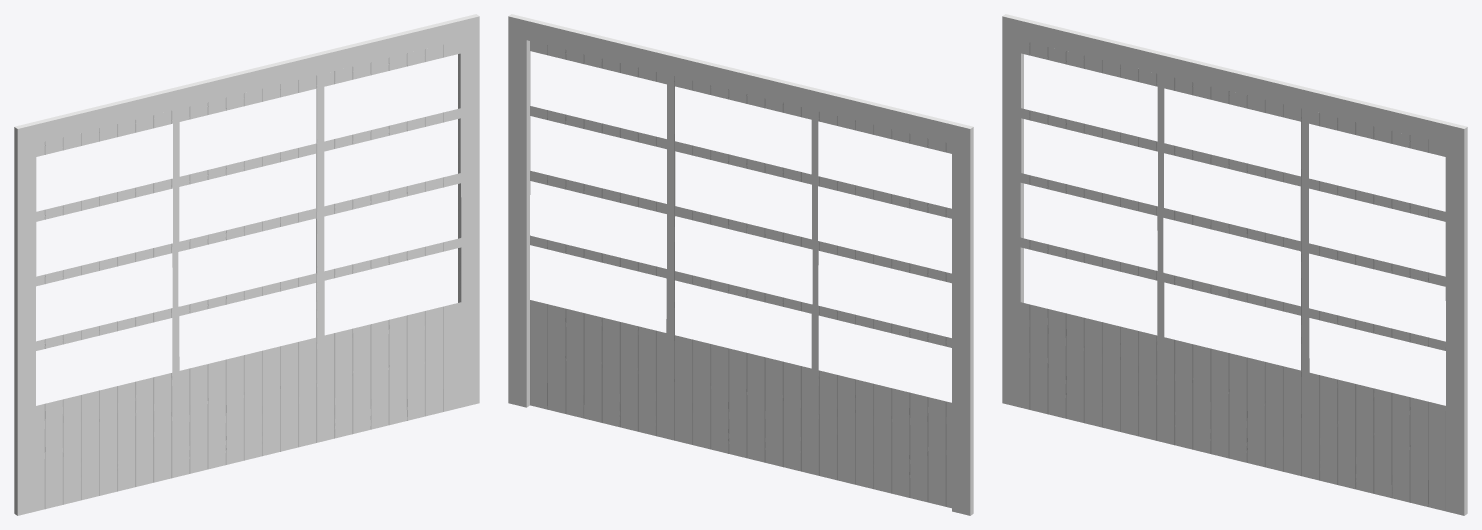
Rendered from gate_full_glass.glb.
3 views of the same model, side by side, from view 1: azimuth 30°, elevation 25°; view 2: azimuth 150°, elevation 25°; view 3: azimuth 330°, elevation 25° (orthographic).
Visible parts, largest first — view 1: 3DGeom-1, 3DGeom-2; view 2: 3DGeom-1, 3DGeom-2; view 3: 3DGeom-1, 3DGeom-2.
Boxes of the visible parts, x1=… form: 3DGeom-1: x1=36, y1=40, x2=461, y2=511; 3DGeom-2: x1=14, y1=14, x2=479, y2=515; 3DGeom-1: x1=530, y1=41, x2=951, y2=508; 3DGeom-2: x1=508, y1=14, x2=973, y2=515; 3DGeom-1: x1=1020, y1=40, x2=1445, y2=511; 3DGeom-2: x1=1002, y1=14, x2=1467, y2=515.
Size of the model in its own units: 2.5 by 2 by 0.0306.
Materials: 2 (1 with a texture image).
